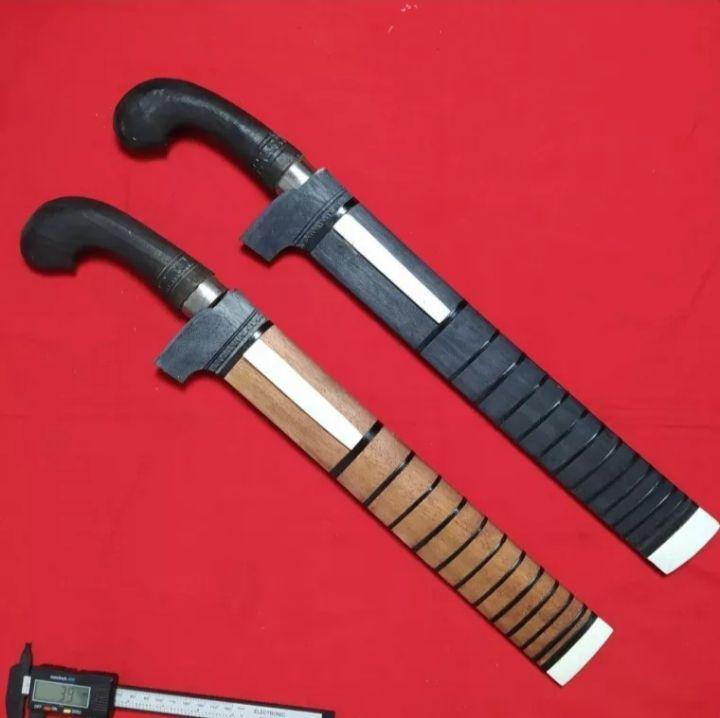facao: (114, 79, 719, 573), (21, 197, 611, 683)
